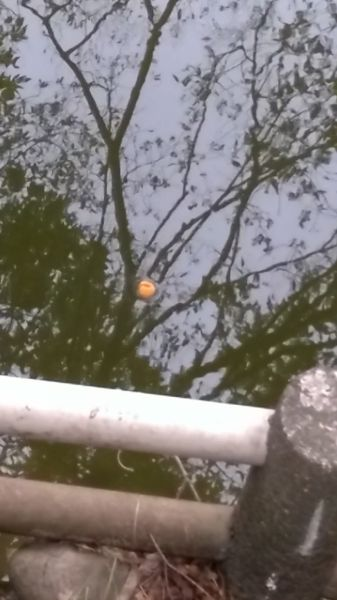eggs: (132, 277, 160, 300)
